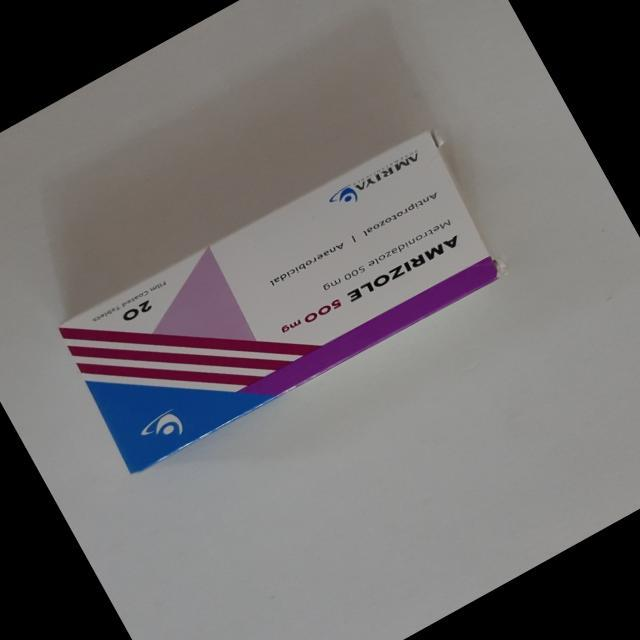Medicine Name: (336, 223, 473, 311)
